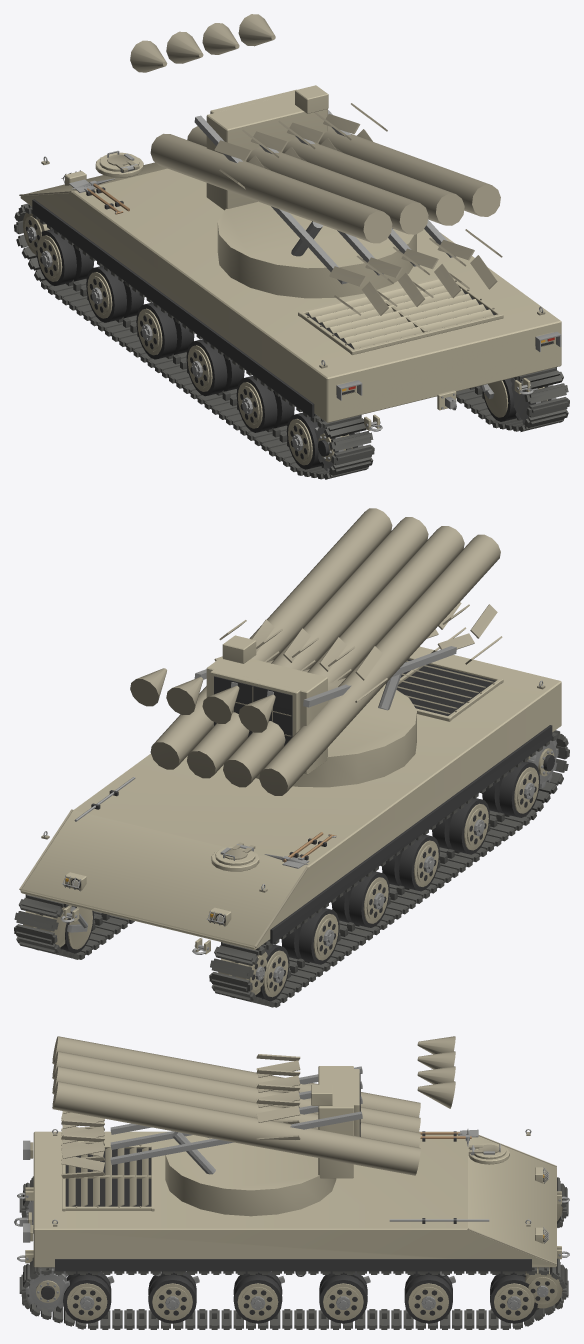
File: rus_aa_buk.glb
3 views of the same model, one above another, from view 1: azimuth 30°, elevation 25°; view 2: azimuth 150°, elevation 25°; view 3: azimuth 270°, elevation 25° (orthographic). The views are drawn at different scales.
Parts seen in each view (by area): view 1: body, barrel, turret; view 2: body, barrel, turret; view 3: body, barrel, turret.
Part boxes in pixels (x1=…): body: x1=14, y1=150, x2=569, y2=479; barrel: x1=130, y1=14, x2=502, y2=315; turret: x1=206, y1=85, x2=416, y2=298; body: x1=14, y1=646, x2=569, y2=1007; barrel: x1=130, y1=508, x2=502, y2=795; turret: x1=206, y1=635, x2=416, y2=787; body: x1=14, y1=1129, x2=569, y2=1329; barrel: x1=52, y1=1036, x2=455, y2=1178; turret: x1=165, y1=1066, x2=360, y2=1216.
Size of the model in its own units: 3.32 by 3.42 by 7.81.
